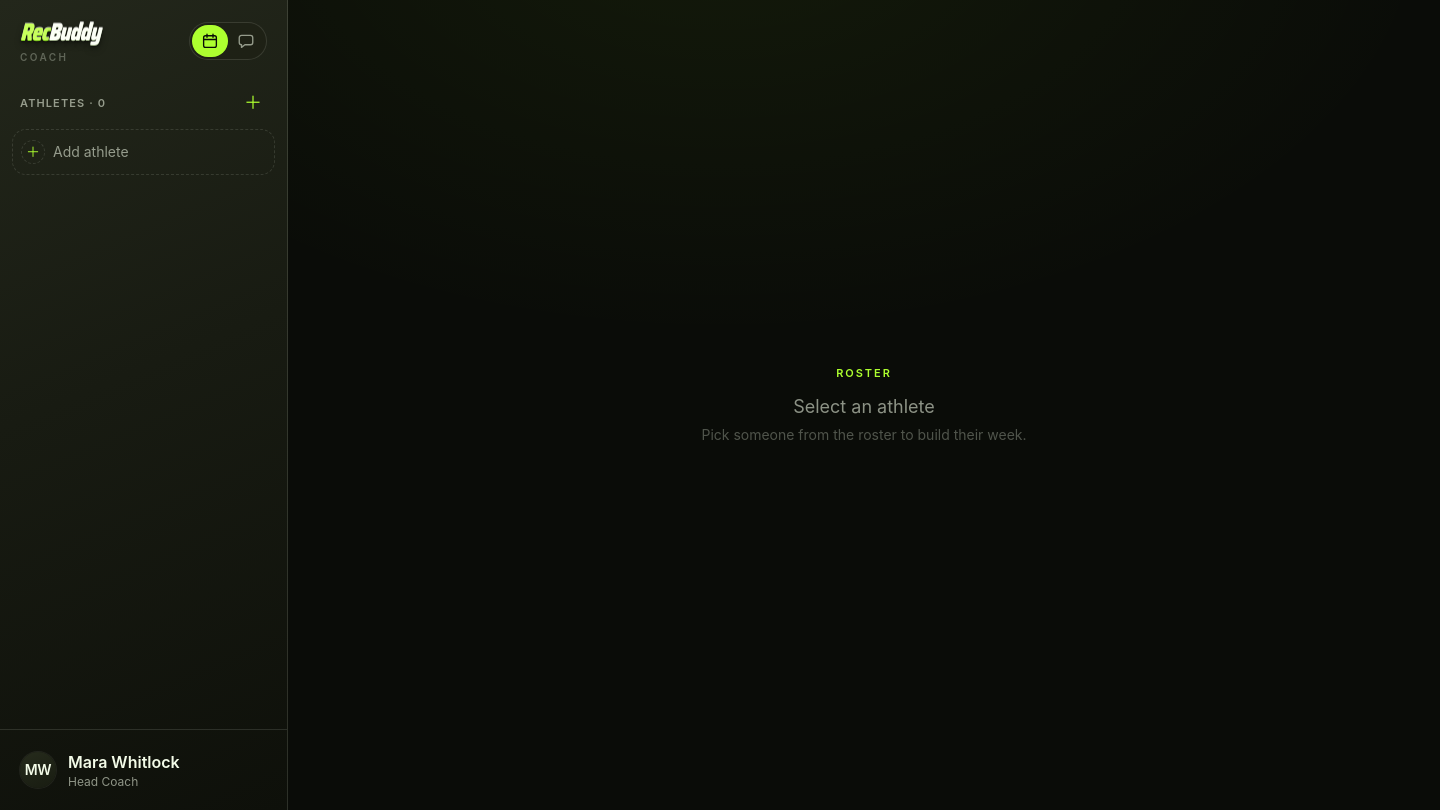
Scenario: shows the empty state, and log out is reachable from the coach menu
Expected: the text "Select an athlete" is shown, x1=793 y1=396 x2=935 y2=417
Click the button "MW Mara Whitlock Head Coach". click: click(144, 770)
box: x1=12 y1=742 x2=275 y2=798
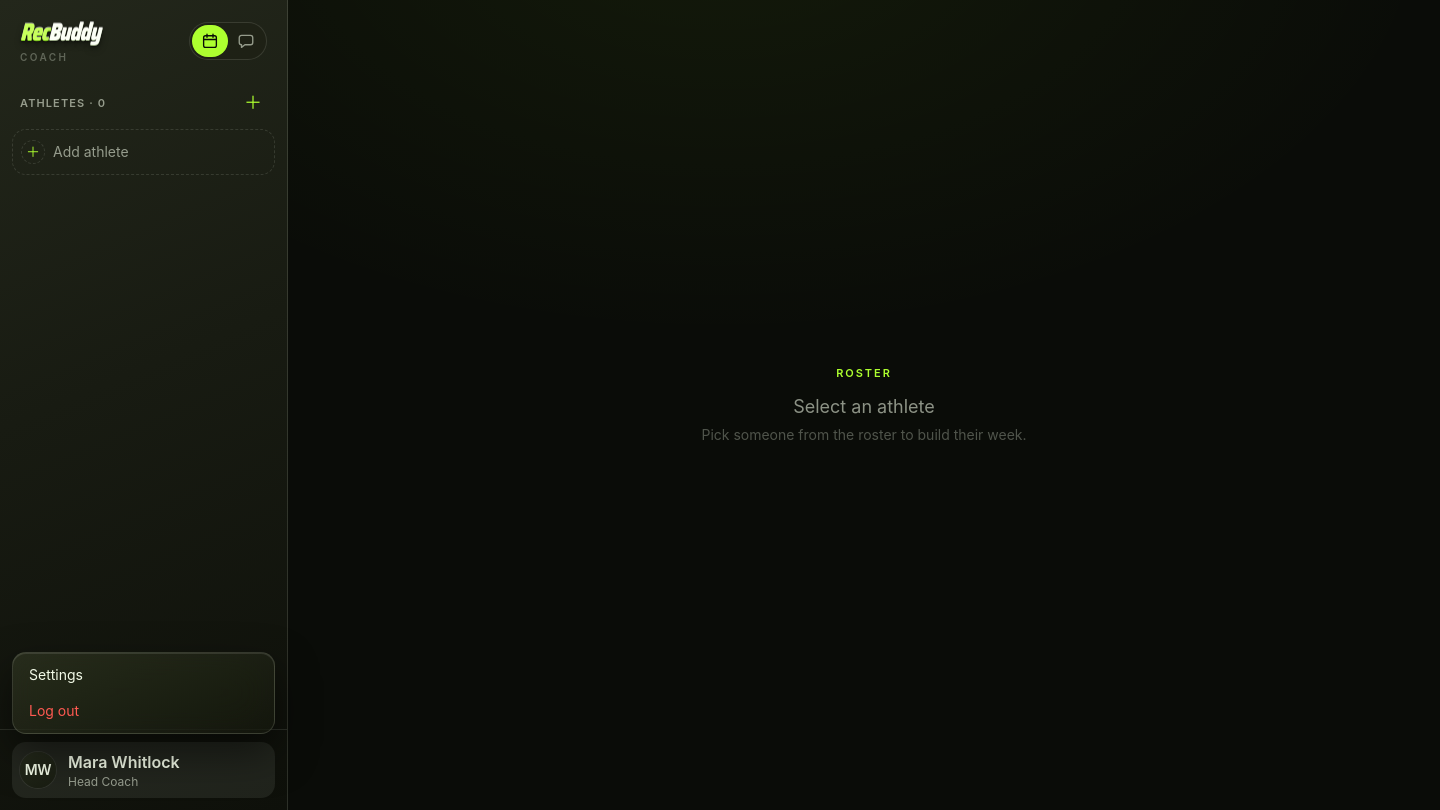
Result: the button "Log out" is shown at x1=17 y1=693 x2=270 y2=729
